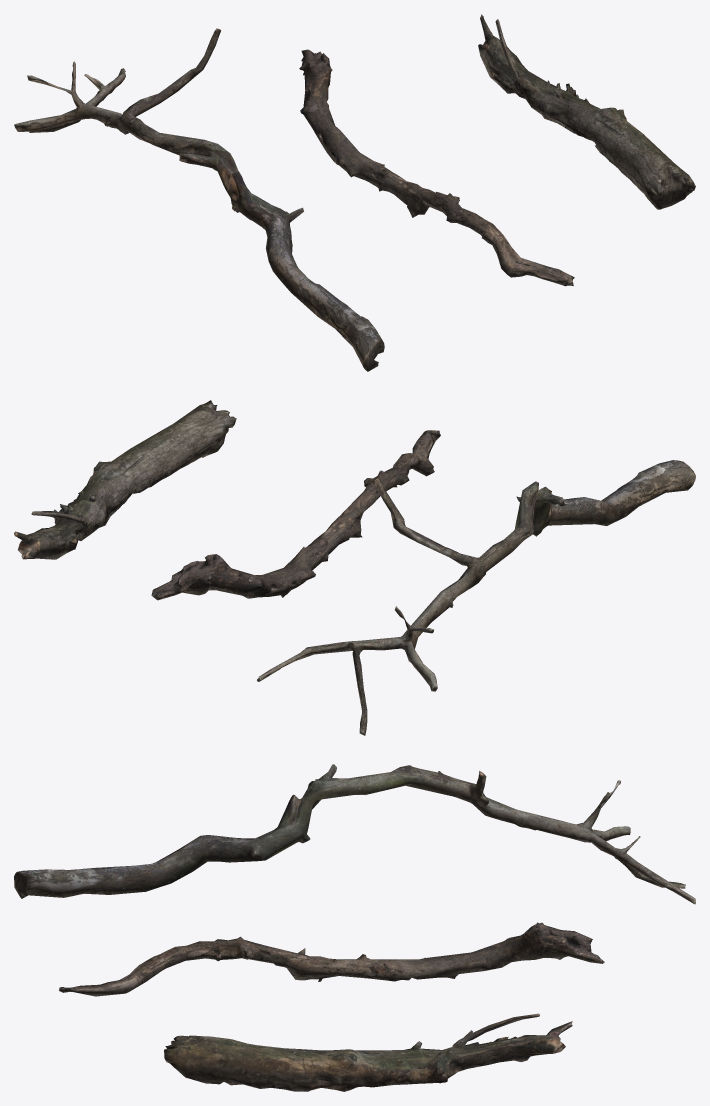
The model's file is driftwood_branches.glb.
3 views of the same model, one above another, from view 1: azimuth 30°, elevation 25°; view 2: azimuth 150°, elevation 25°; view 3: azimuth 270°, elevation 25° (orthographic). The views are drawn at different scales.
Parts seen in each view (by area): view 1: dry_branches_medium_01_a, dry_branches_medium_01_c, dry_branches_medium_01_b; view 2: dry_branches_medium_01_a, dry_branches_medium_01_c, dry_branches_medium_01_b; view 3: dry_branches_medium_01_a, dry_branches_medium_01_c, dry_branches_medium_01_b.
Boxes of the visible parts, bbox=[...] form: dry_branches_medium_01_a: bbox=[14, 28, 384, 371]; dry_branches_medium_01_c: bbox=[478, 14, 695, 209]; dry_branches_medium_01_b: bbox=[299, 49, 574, 286]; dry_branches_medium_01_a: bbox=[257, 460, 695, 735]; dry_branches_medium_01_c: bbox=[14, 400, 236, 559]; dry_branches_medium_01_b: bbox=[151, 430, 440, 600]; dry_branches_medium_01_a: bbox=[14, 764, 695, 904]; dry_branches_medium_01_c: bbox=[164, 1013, 572, 1091]; dry_branches_medium_01_b: bbox=[59, 922, 604, 996].
Bounding box in the file's own units: 1.06 × 0.3401 × 1.3.
Materials: 1 (1 with a texture image).
